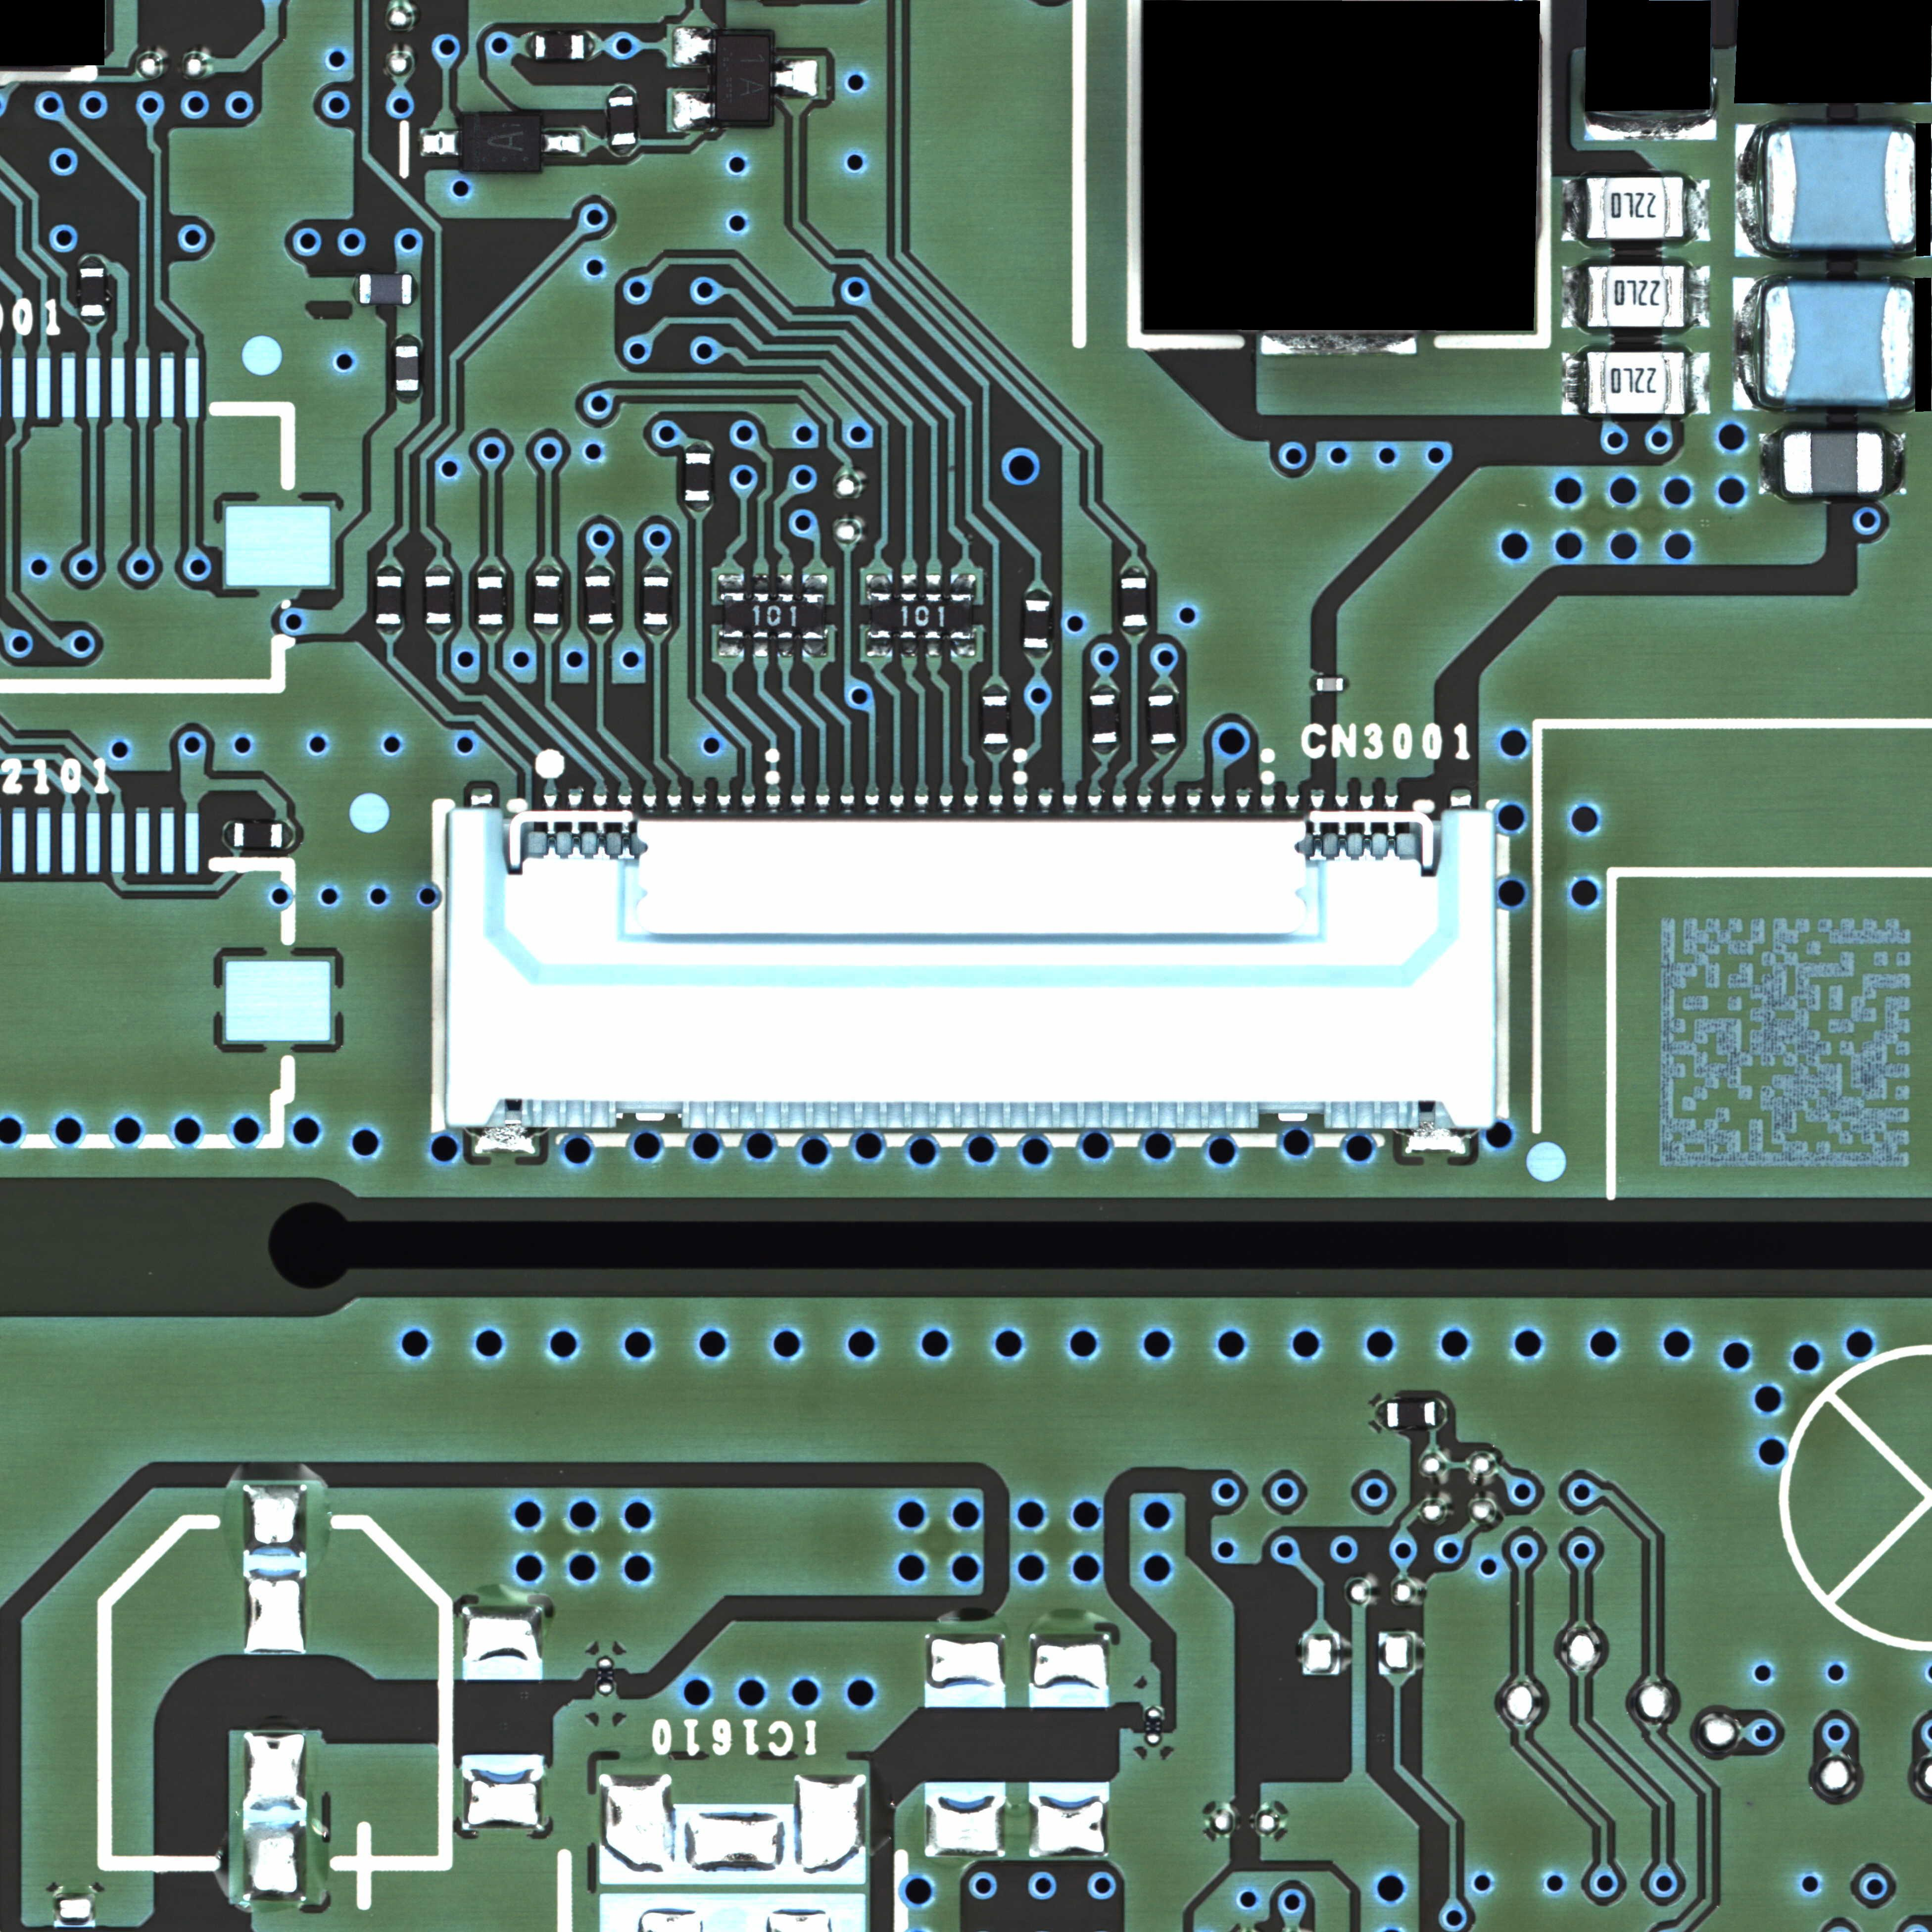Package: (1766, 283, 1914, 402), (1767, 127, 1914, 244), (1783, 432, 1884, 494), (1587, 352, 1684, 414), (1585, 179, 1684, 239), (1587, 267, 1684, 327), (724, 593, 826, 639), (870, 593, 973, 639), (717, 35, 770, 122), (464, 113, 541, 172), (359, 274, 412, 304), (584, 575, 614, 625), (1023, 600, 1051, 649), (1148, 695, 1177, 745), (609, 96, 637, 145), (234, 821, 283, 849), (533, 575, 561, 625), (1090, 694, 1116, 743), (1122, 577, 1148, 626), (375, 575, 402, 625), (982, 695, 1008, 745), (425, 575, 451, 625), (685, 453, 711, 501), (536, 34, 584, 60), (1387, 1401, 1435, 1428), (642, 577, 669, 625), (80, 267, 104, 317), (478, 577, 502, 625), (396, 345, 419, 391), (1316, 678, 1343, 692)
Solder: (1736, 124, 1764, 258), (1585, 113, 1716, 142), (1732, 278, 1760, 409), (1261, 333, 1417, 356), (671, 90, 717, 131), (770, 58, 817, 97), (672, 27, 717, 65), (1684, 179, 1711, 242), (1684, 265, 1711, 327), (1560, 265, 1587, 327), (1560, 352, 1585, 416), (1686, 352, 1711, 416), (1560, 179, 1585, 241), (1884, 432, 1907, 495), (1759, 433, 1782, 494), (419, 127, 464, 157), (541, 131, 584, 154), (717, 573, 745, 593), (865, 573, 893, 593), (801, 573, 828, 593), (718, 639, 745, 658), (950, 573, 977, 593), (865, 640, 893, 658), (801, 640, 828, 658), (948, 640, 977, 656), (395, 391, 423, 405), (777, 639, 796, 658), (924, 573, 943, 593), (642, 564, 672, 577), (1375, 1399, 1387, 1428), (393, 333, 421, 345), (476, 564, 504, 577), (533, 563, 561, 575), (685, 441, 713, 453), (586, 625, 614, 637), (752, 573, 770, 593), (777, 573, 794, 593), (901, 573, 918, 593), (584, 34, 596, 60), (221, 821, 234, 847), (80, 255, 106, 267), (685, 501, 711, 513), (425, 625, 451, 637), (1090, 743, 1116, 755), (982, 683, 1008, 695), (533, 626, 563, 637), (901, 640, 918, 658), (609, 85, 637, 96), (609, 145, 637, 156), (375, 564, 403, 575), (586, 564, 614, 575), (476, 626, 504, 637), (375, 625, 403, 635), (1148, 745, 1177, 755), (1023, 649, 1051, 660), (1023, 589, 1051, 600), (283, 823, 294, 849), (754, 640, 770, 658), (925, 640, 941, 658), (80, 317, 106, 327), (425, 564, 451, 575), (642, 626, 669, 637), (1122, 566, 1148, 577), (982, 745, 1008, 755), (1122, 626, 1146, 637), (1148, 685, 1177, 694), (1437, 1401, 1445, 1428), (525, 34, 534, 60), (1090, 685, 1116, 694), (352, 274, 359, 304), (412, 276, 419, 304), (1307, 674, 1316, 694), (1343, 674, 1350, 692)
